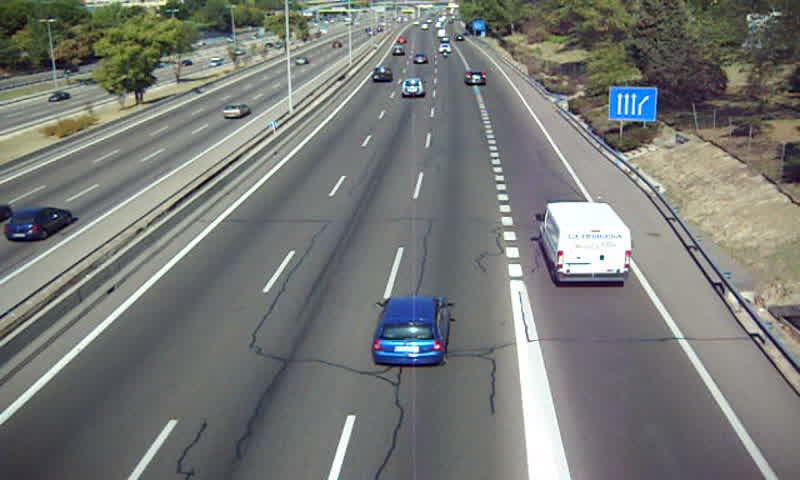car: (372, 297, 451, 367), (400, 80, 426, 99), (371, 65, 393, 84), (464, 71, 490, 87)
van: (534, 202, 633, 281)
